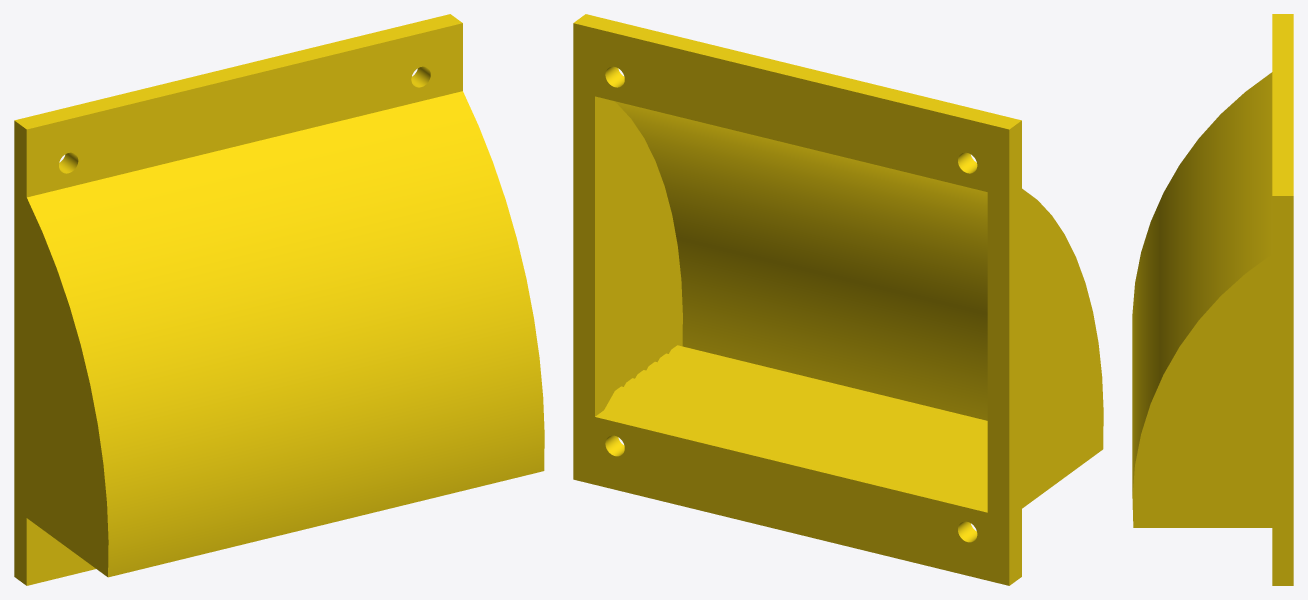
The picture shows the model from 3 angles, left to right: view 1: azimuth 30°, elevation 25°; view 2: azimuth 150°, elevation 25°; view 3: azimuth 270°, elevation 25°; orthographic projection. The views are drawn at different scales.
Parts seen in each view (by area): view 1: mesh54650, mesh54647, mesh54652, mesh54648, mesh54654; view 2: mesh54659, mesh54657, mesh54652, mesh54677, mesh54661, mesh54648, mesh54660, mesh54662, mesh54680, mesh54675, mesh54672, mesh54669 (+6 smaller); view 3: mesh54651, mesh54650, mesh54648.
Boxes of the visible parts, left/top/right/bottom form: mesh54650: left=27, top=91, right=544, bottom=577; mesh54647: left=26, top=23, right=462, bottom=197; mesh54652: left=14, top=120, right=108, bottom=585; mesh54648: left=14, top=14, right=462, bottom=129; mesh54654: left=26, top=518, right=95, bottom=585; mesh54659: left=614, top=101, right=987, bottom=420; mesh54657: left=573, top=23, right=1009, bottom=585; mesh54652: left=1009, top=120, right=1103, bottom=585; mesh54677: left=595, top=96, right=682, bottom=416; mesh54661: left=604, top=391, right=987, bottom=503; mesh54648: left=573, top=14, right=1021, bottom=129; mesh54660: left=595, top=410, right=987, bottom=512; mesh54662: left=615, top=386, right=987, bottom=481; mesh54680: left=626, top=378, right=987, bottom=470; mesh54675: left=638, top=370, right=987, bottom=459; mesh54672: left=649, top=361, right=987, bottom=448; mesh54669: left=660, top=353, right=987, bottom=437; mesh54651: left=1132, top=196, right=1293, bottom=585; mesh54650: left=1132, top=72, right=1272, bottom=495; mesh54648: left=1272, top=14, right=1293, bottom=195.
Bounding box in the file's own units: 0.1024 × 0.1024 × 0.0383.
